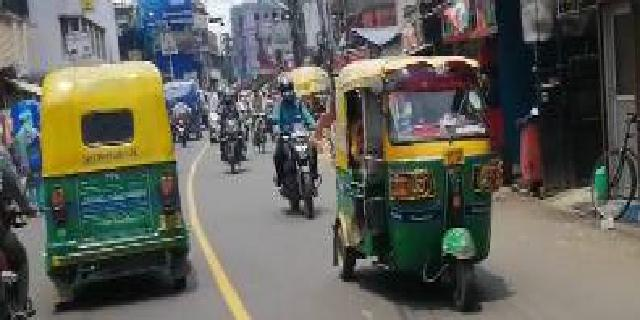Autorickshaw: (330, 52, 500, 313), (37, 58, 194, 310)
Motorbike: (263, 77, 326, 221), (212, 79, 249, 179)
